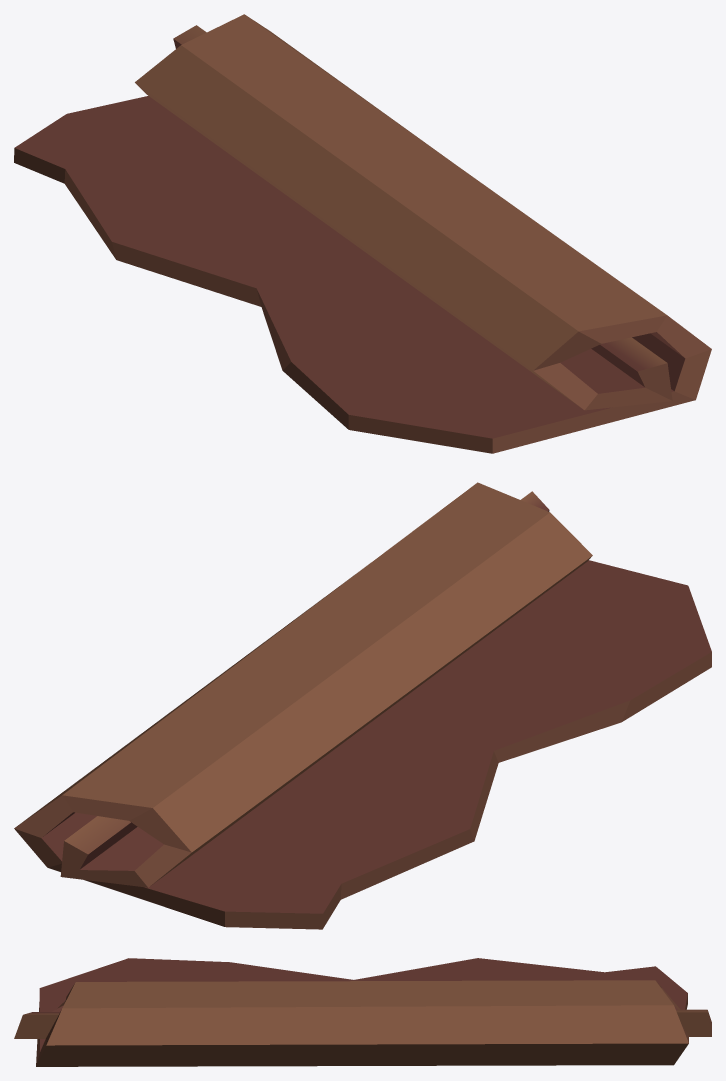
The model's file is leather_resource.fbx.
3 views of the same model, one above another, from view 1: azimuth 30°, elevation 25°; view 2: azimuth 150°, elevation 25°; view 3: azimuth 270°, elevation 25° (orthographic). The views are drawn at different scales.
Visible parts, largest first — view 1: leather_resource.001; view 2: leather_resource.001; view 3: leather_resource.001.
Part boxes in pixels (left/top/right/bottom): leather_resource.001: left=14, top=14, right=711, bottom=453; leather_resource.001: left=14, top=482, right=711, bottom=929; leather_resource.001: left=14, top=958, right=711, bottom=1066.
Size of the model in its own units: 18.95 by 4.75 by 50.45.
